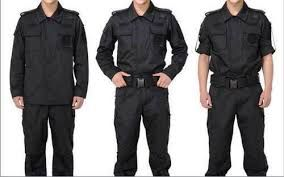uniform: (200, 5, 266, 166), (109, 5, 175, 157)
